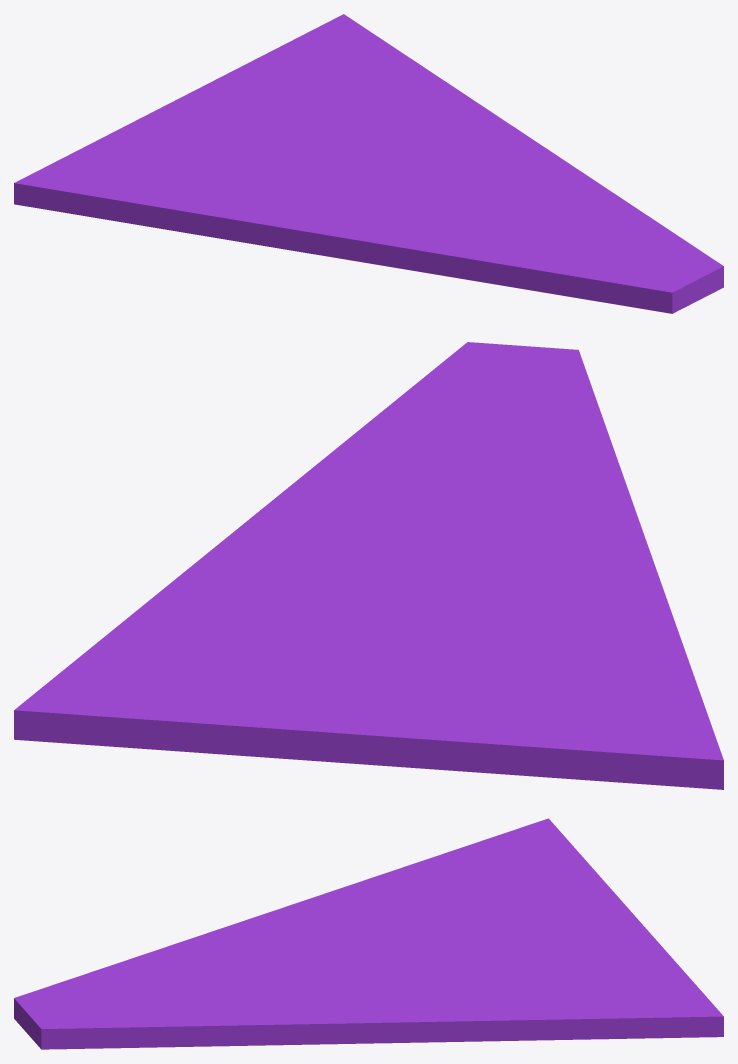
The model's file is StairsStep_29_chunks.fbx.
3 views of the same model, one above another, from view 1: azimuth 30°, elevation 25°; view 2: azimuth 150°, elevation 25°; view 3: azimuth 270°, elevation 25° (orthographic). The views are drawn at different scales.
Parts seen in each view (by area): view 1: StairsStep_29_0, StairsStep_29_3, StairsStep_29_2, StairsStep_29_1; view 2: StairsStep_29_0, StairsStep_29_3, StairsStep_29_2, StairsStep_29_1; view 3: StairsStep_29_0, StairsStep_29_3, StairsStep_29_2, StairsStep_29_1.
Part boxes in pixels (left/top/right/bottom): StairsStep_29_0: left=57, top=14, right=498, bottom=191; StairsStep_29_3: left=430, top=173, right=723, bottom=313; StairsStep_29_2: left=14, top=161, right=455, bottom=277; StairsStep_29_1: left=460, top=117, right=583, bottom=180; StairsStep_29_0: left=14, top=535, right=631, bottom=781; StairsStep_29_3: left=301, top=342, right=629, bottom=542; StairsStep_29_2: left=460, top=495, right=723, bottom=789; StairsStep_29_1: left=199, top=477, right=408, bottom=559; StairsStep_29_0: left=330, top=844, right=723, bottom=1041; StairsStep_29_3: left=14, top=934, right=336, bottom=1049; StairsStep_29_2: left=204, top=818, right=570, bottom=961; StairsStep_29_1: left=260, top=977, right=486, bottom=1045.
Bounding box in the file's own units: 395 × 17.94 × 563.
